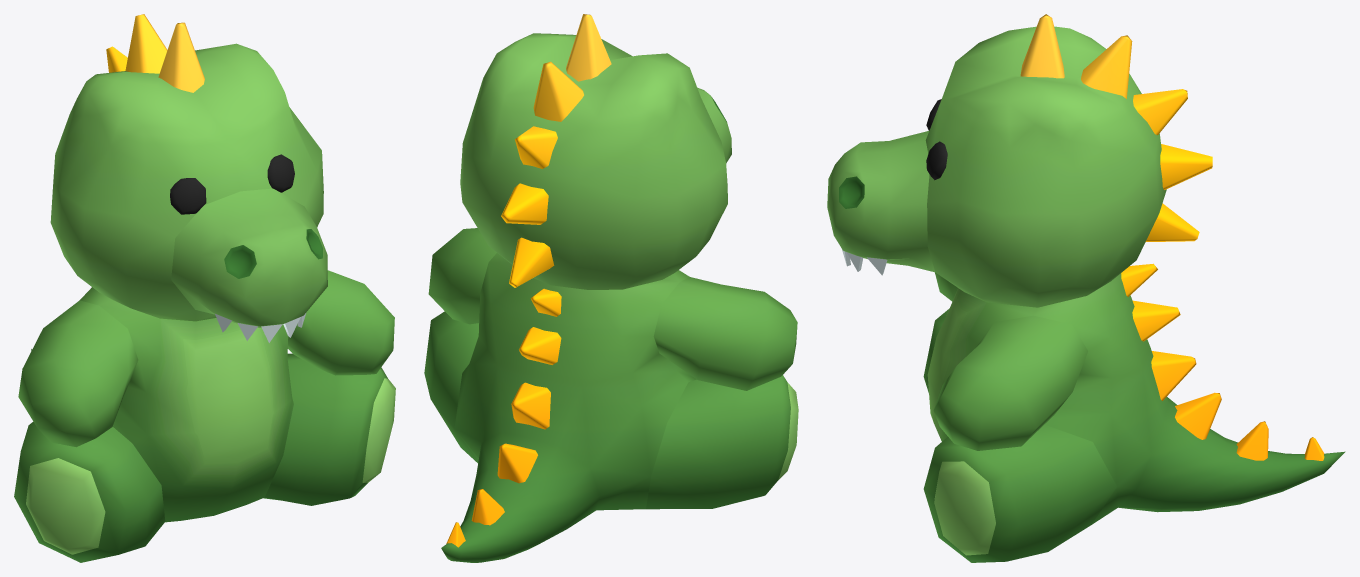
File: crocodile.glb
3 renders of one model, left to right at view 1: azimuth 30°, elevation 25°; view 2: azimuth 150°, elevation 25°; view 3: azimuth 270°, elevation 25°, orthographic. The views are drawn at different scales.
Parts seen in each view (by area): view 1: Crocodile_01; view 2: Crocodile_01; view 3: Crocodile_01.
Boxes of the visible parts, box(x1,y1,x2,y2) form: Crocodile_01: box(14, 14, 395, 562); Crocodile_01: box(424, 14, 798, 562); Crocodile_01: box(827, 14, 1345, 562).
Size of the model in its own units: 0.3281 by 0.4229 by 0.4052.
2 materials, 2 textured.
